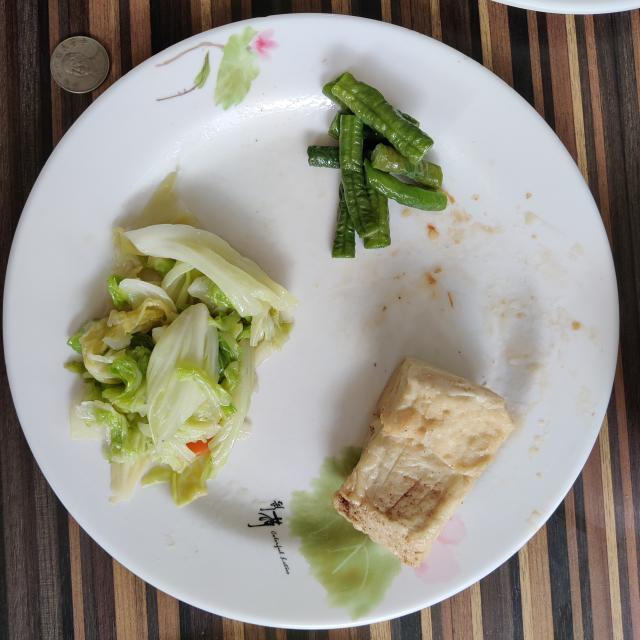cabbage: (66, 172, 298, 506)
coin: (50, 36, 110, 94)
creamy tofu -without sauce-: (332, 358, 514, 568)
